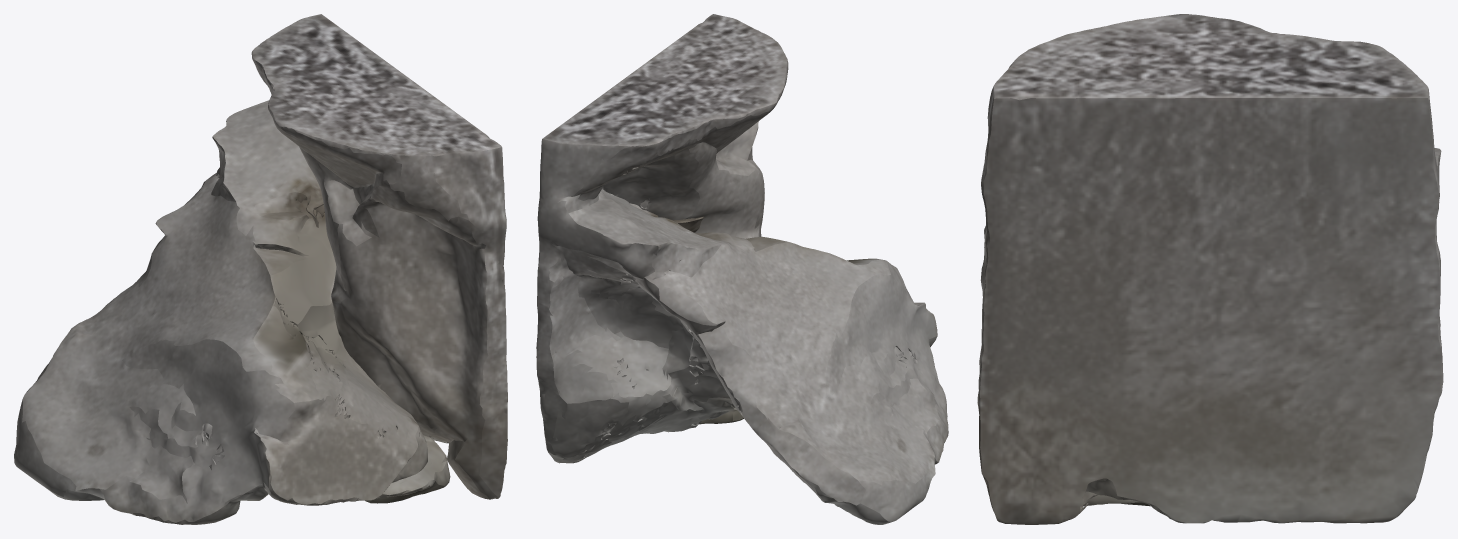
The picture shows the model from 3 angles, left to right: view 1: azimuth 30°, elevation 25°; view 2: azimuth 150°, elevation 25°; view 3: azimuth 270°, elevation 25°; orthographic projection. The views are drawn at different scales.
Parts seen in each view (by area): view 1: world; view 2: world; view 3: world.
Boxes of the visible parts, x1,y1,x2,y2 form: world: [14, 14, 507, 524]; world: [536, 14, 948, 524]; world: [977, 14, 1443, 524].
Size of the model in its own units: 0.35 by 0.35 by 0.3451.
1 material, 1 textured.
